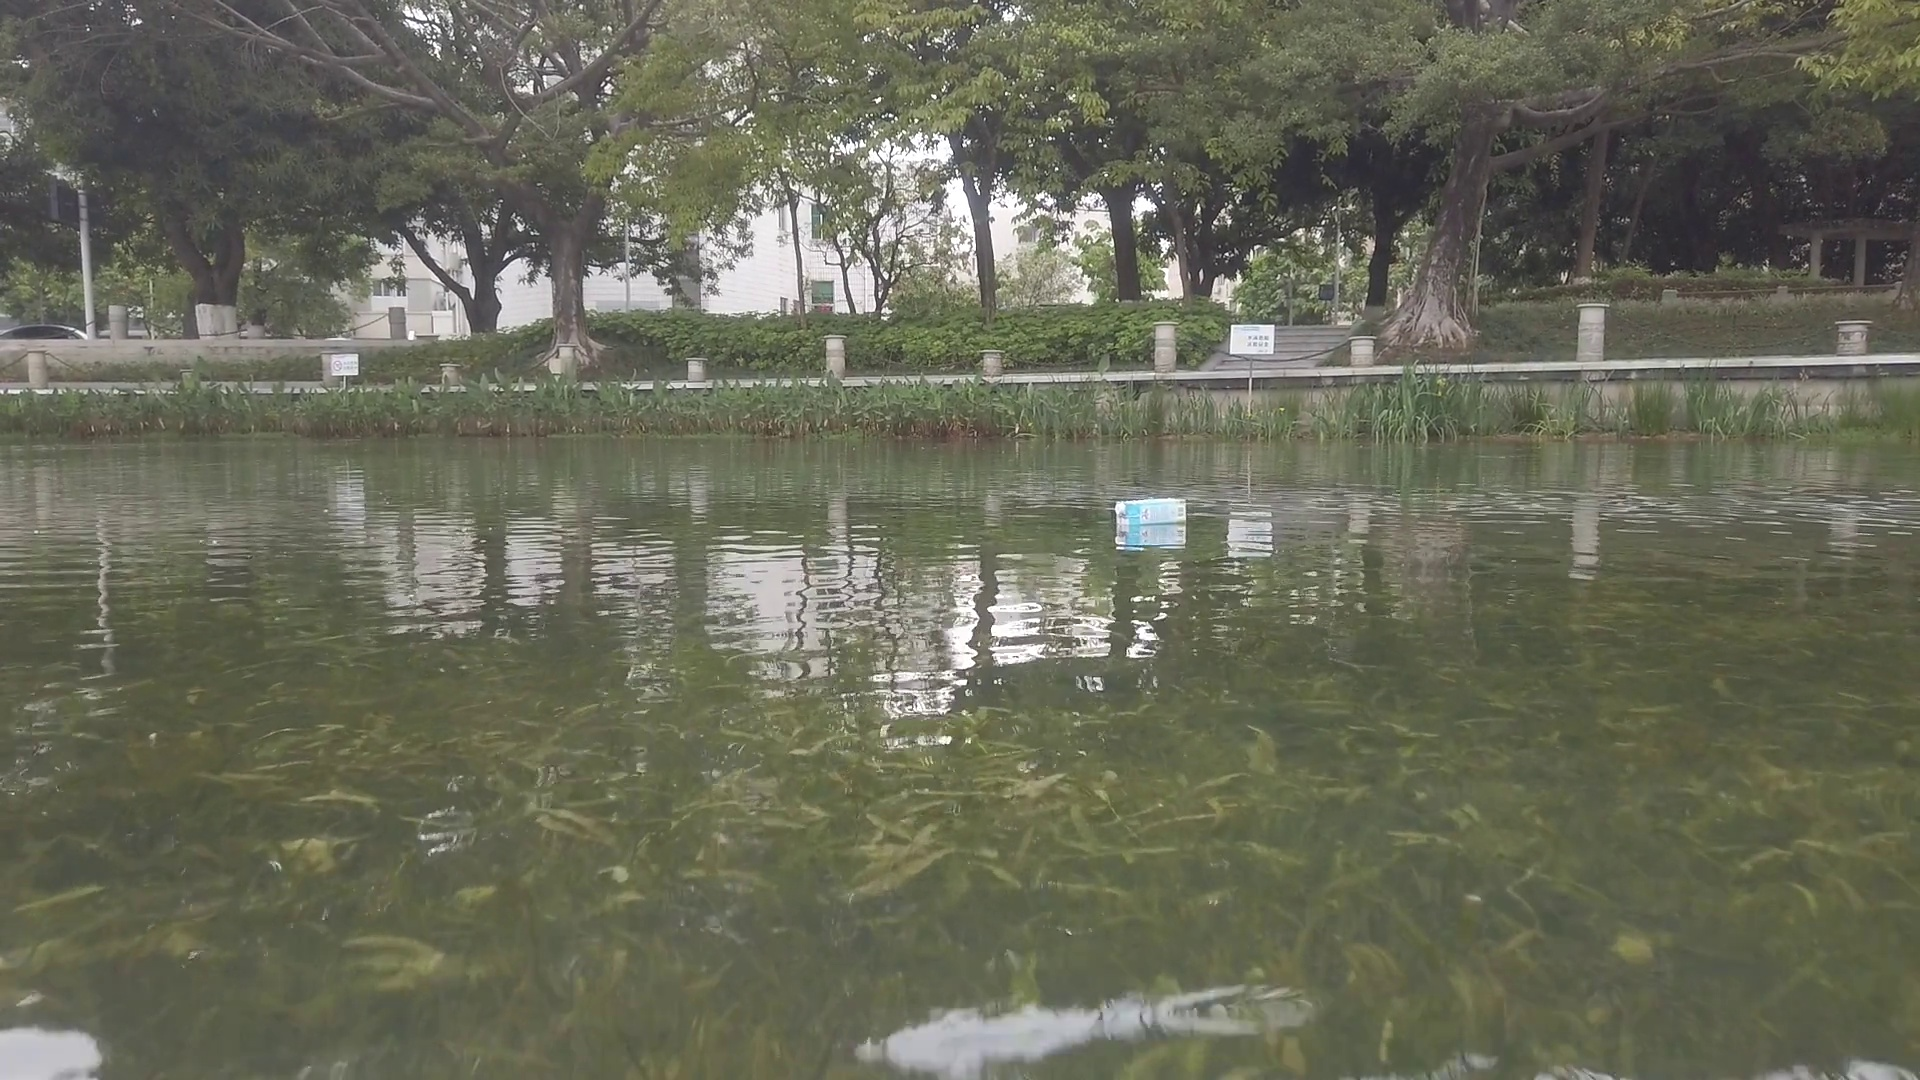carton: (1112, 496, 1185, 525)
